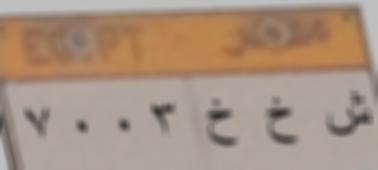0: (66, 115, 100, 141), (109, 110, 136, 140)
3: (148, 92, 183, 142)
7: (24, 102, 54, 141)
khaa: (258, 94, 302, 150), (201, 93, 241, 149)
sheen: (324, 86, 374, 142)
